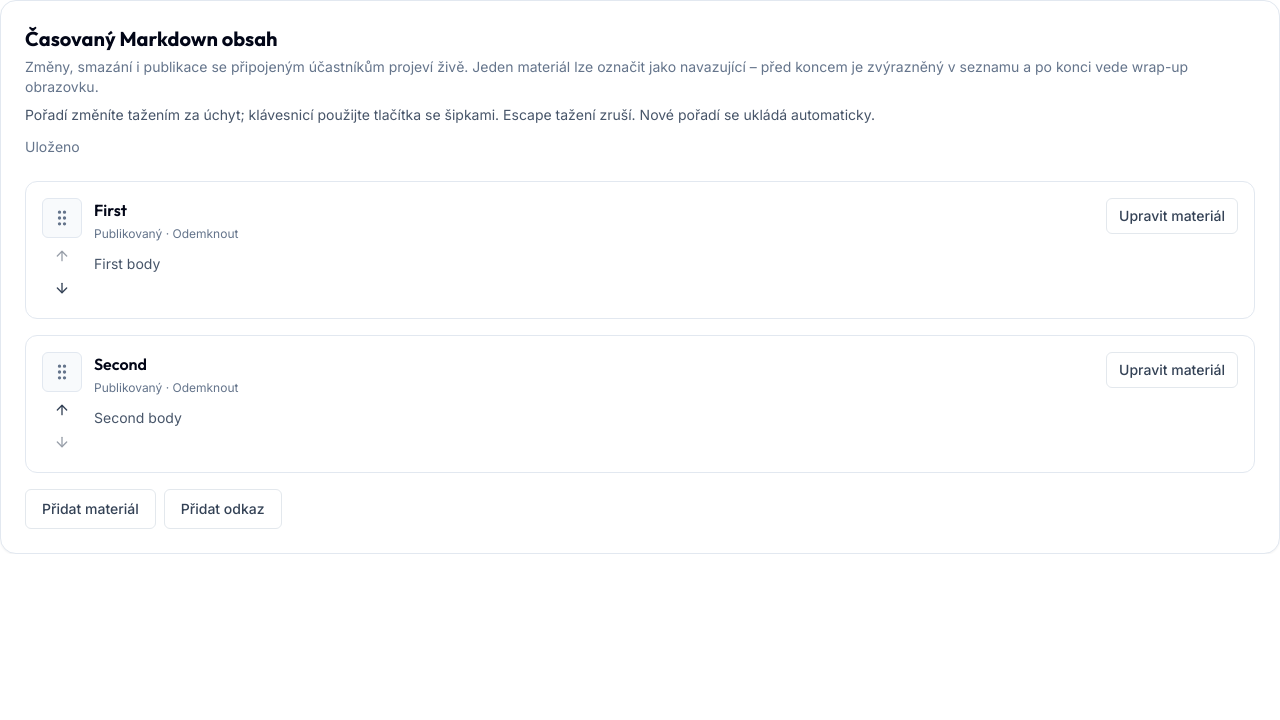
Scenario: workshop material ordering › keeps a failed order dirty and exposes the shared retry action
What coordinates should you click on to do the following:
click the button named "Přesunout materiál First dolů"
I would click on:
 (62, 288)
Its box is [48,274,76,302].
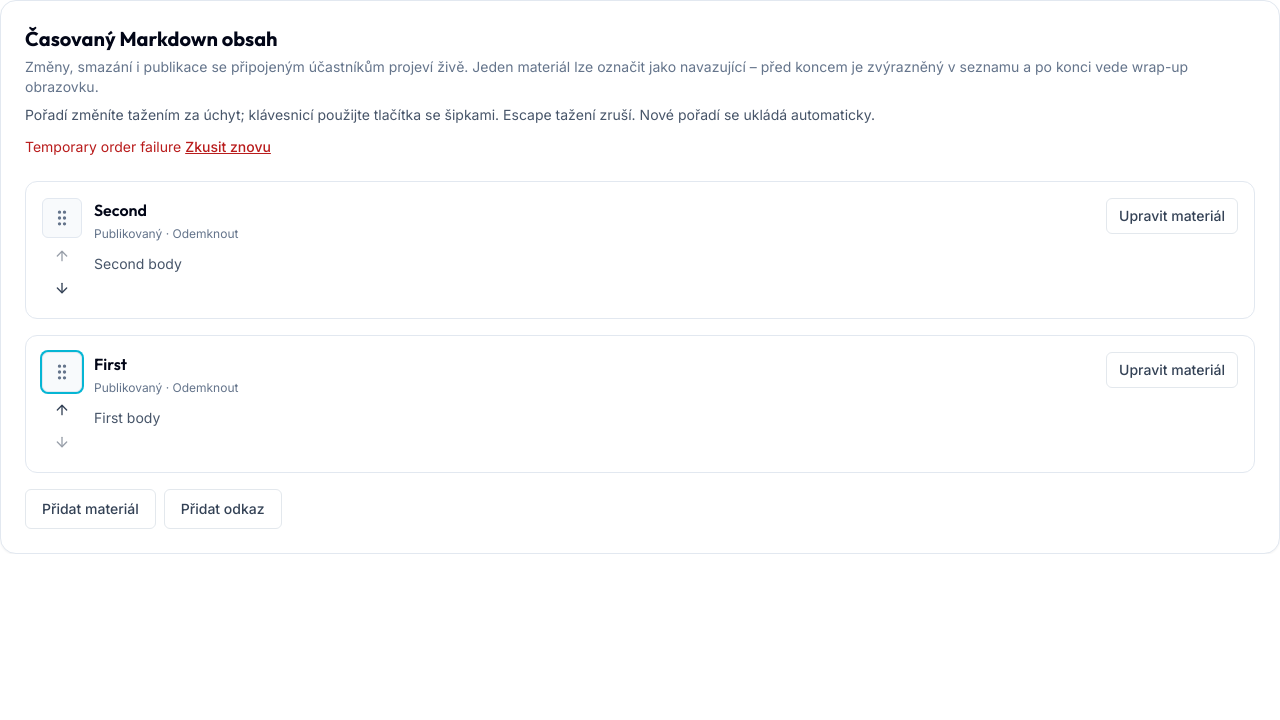
expect the message shows "Temporary order failure": met, box [25,138,181,155]
What coordinates should you click on to do the following:
click the button "Zkusit znovu"
I would click on:
 (228, 147)
Its box is [185,137,271,157].
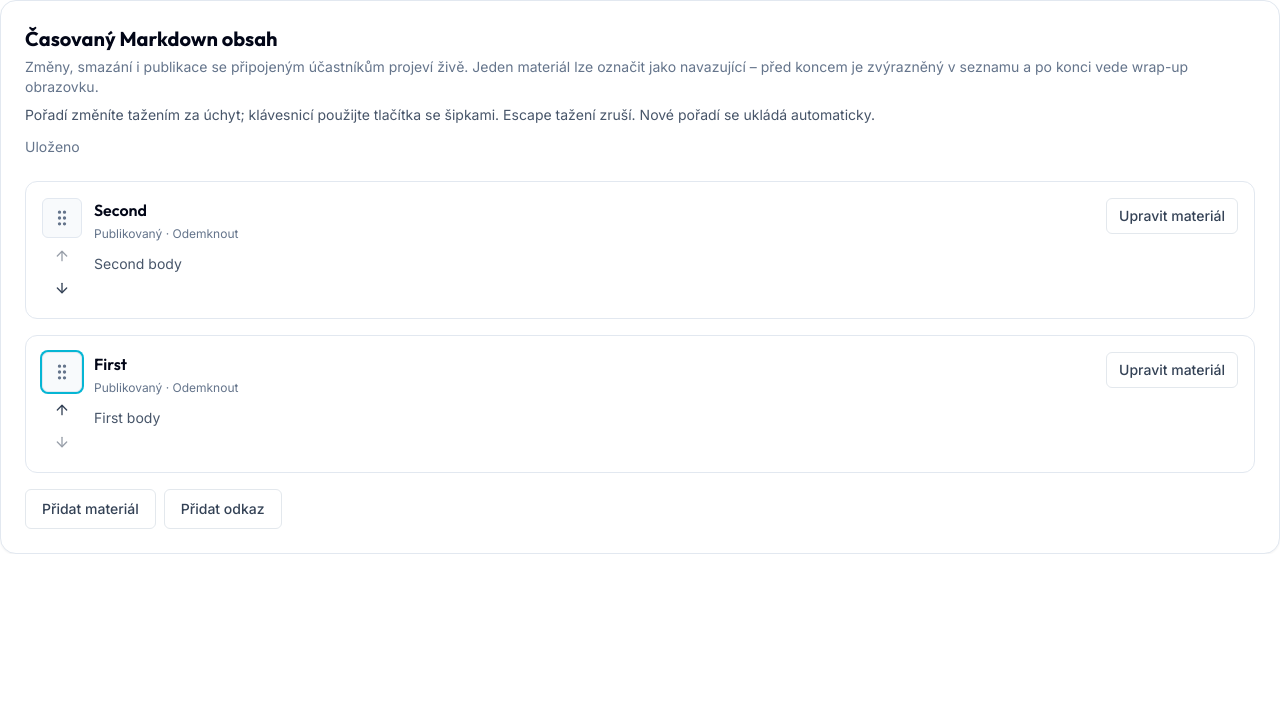
expect the message reads "Uloženo": met, box [25,138,80,155]
